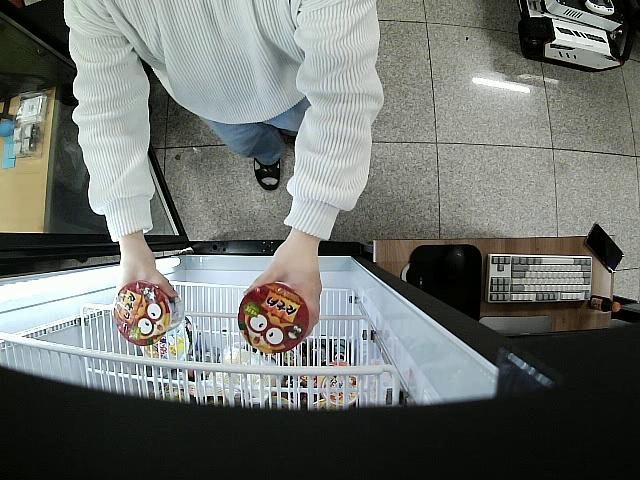06_nuguri_S: (238, 284, 308, 352), (112, 282, 184, 345)
